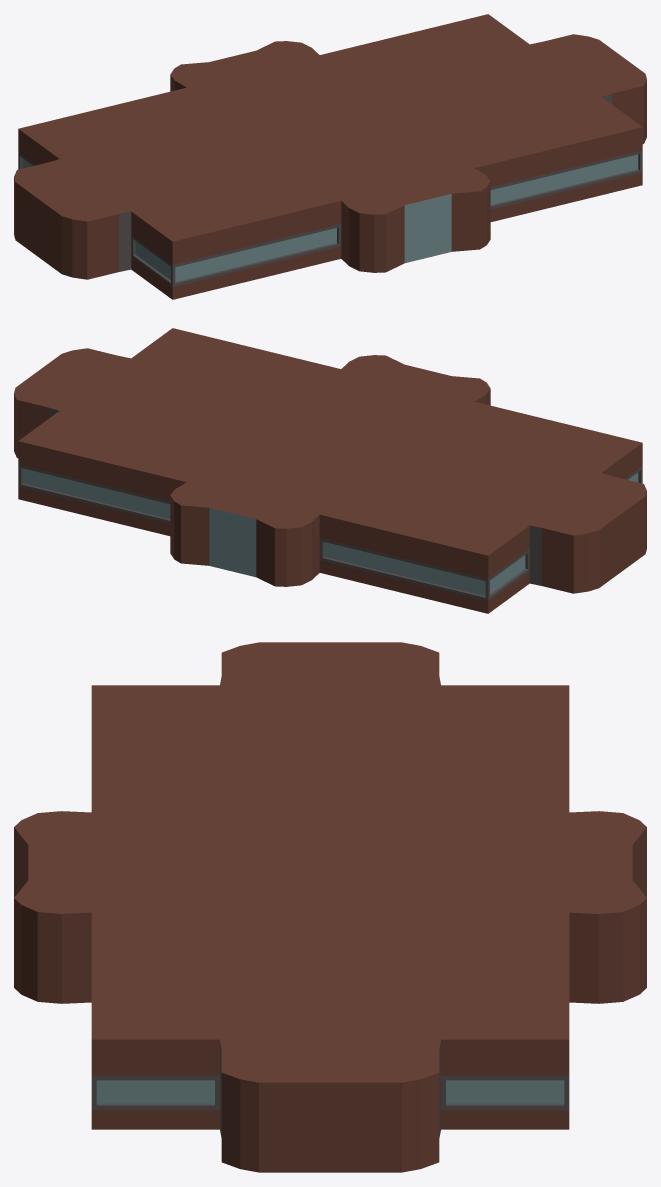
Rendered from Building_Long_Mid.fbx.
The picture shows the model from 3 angles, top to bottom: view 1: azimuth 30°, elevation 25°; view 2: azimuth 150°, elevation 25°; view 3: azimuth 270°, elevation 25°; orthographic projection. The views are drawn at different scales.
Visible parts, largest first — view 1: Long_Mid; view 2: Long_Mid; view 3: Long_Mid.
Boxes of the visible parts, x1,y1,x2,y2 form: Long_Mid: (14, 14, 646, 299); Long_Mid: (14, 328, 646, 613); Long_Mid: (14, 642, 646, 1172).
Size of the model in its own units: 5253 by 500 by 3192.
